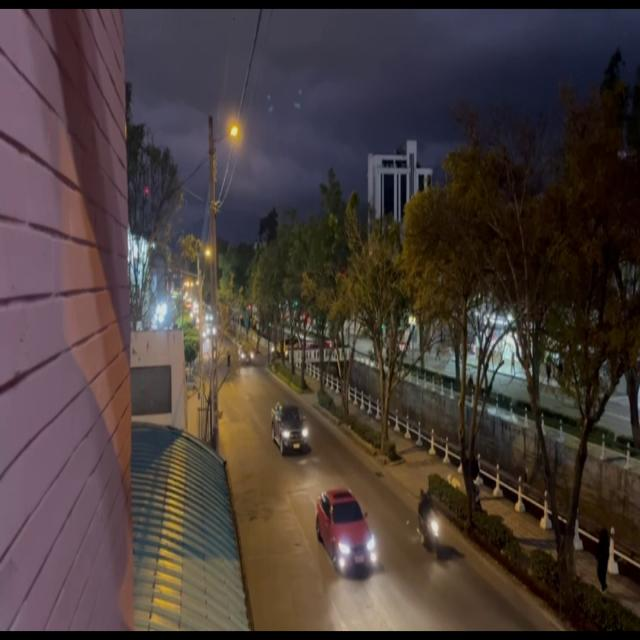MOTORCYCLE: (418, 506, 442, 565)
SED: (315, 486, 377, 578)
